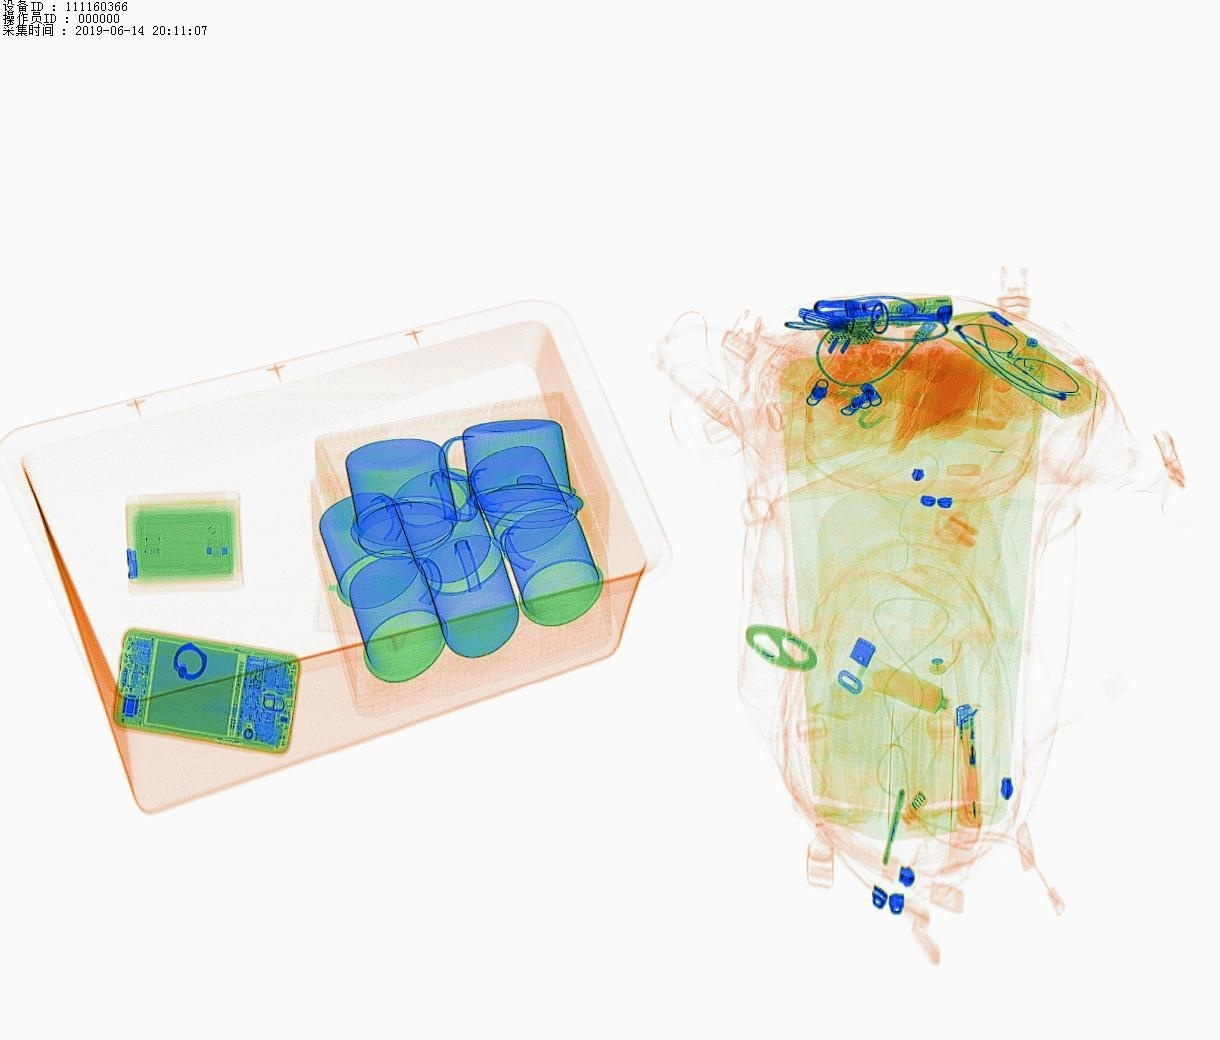NonmetallicFire: (953, 692, 987, 836)
